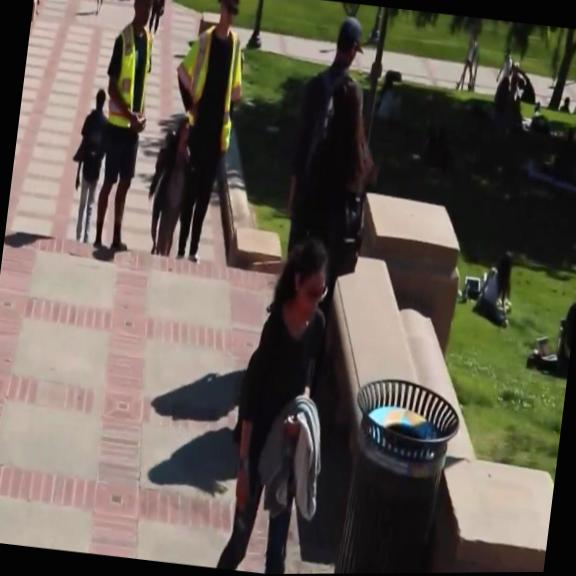safety_vest: (166, 25, 246, 149), (102, 24, 156, 134)
